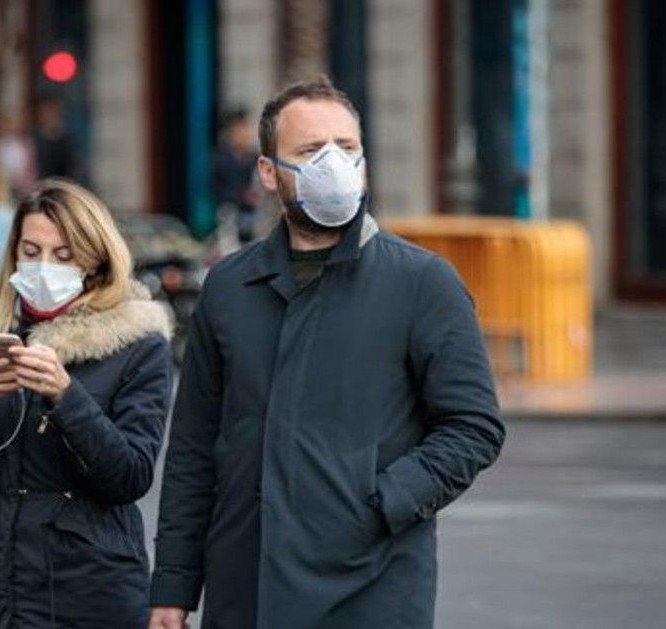with_mask: (253, 96, 380, 227), (3, 187, 116, 323)
